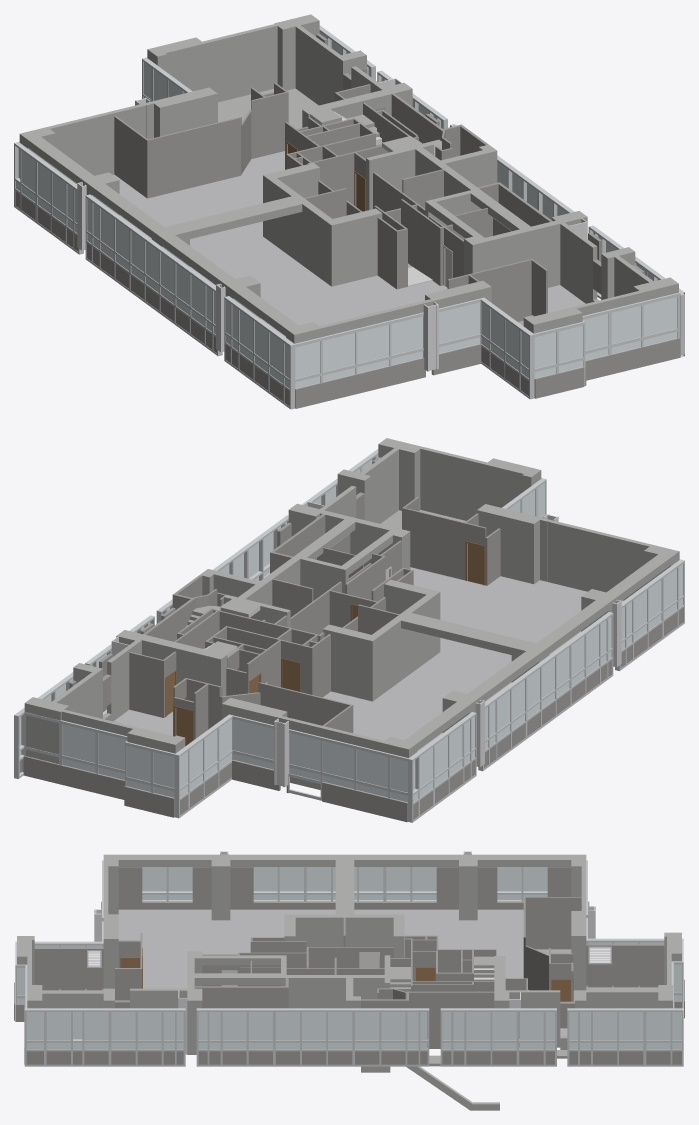
The picture shows the model from 3 angles, top to bottom: view 1: azimuth 30°, elevation 25°; view 2: azimuth 150°, elevation 25°; view 3: azimuth 270°, elevation 25°; orthographic projection. The views are drawn at different scales.
Visible parts, largest first — view 1: T2_23F; view 2: T2_23F; view 3: T2_23F.
Part boxes in pixels (x1,y1,x2,y2): T2_23F: (14,14,684,409); T2_23F: (14,438,684,822); T2_23F: (14,851,684,1110).
Bounding box in the file's own units: 19.15 × 7.03 × 35.93.
